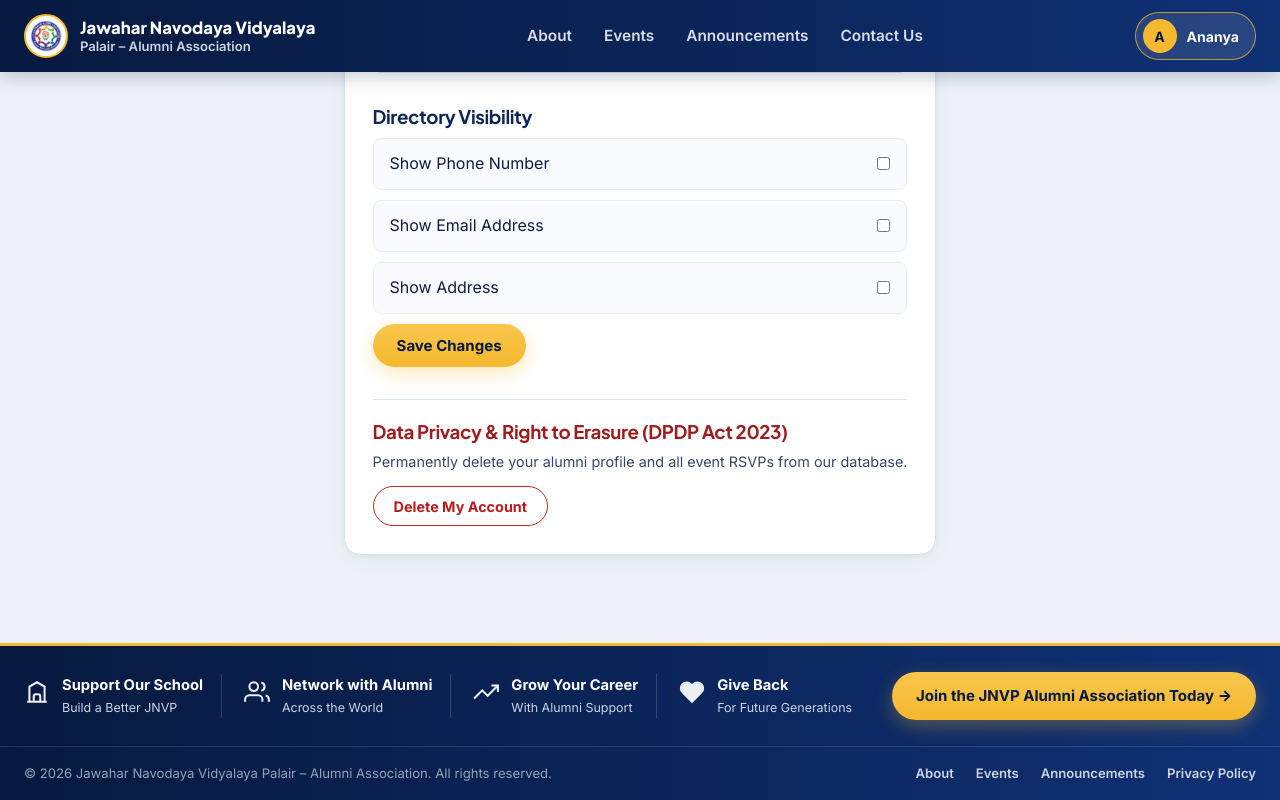
Scenario: JNVP Portal Flows (Auth, Onboarding, Directory, Approvals, Events, About, Privacy) › supports DPDP Delete My Account confirmation on /profile
Later steps or results of the test are not shown.
(page scrolled)
Click the button "Delete My Account".
click(460, 506)  # box [373,486,548,526]
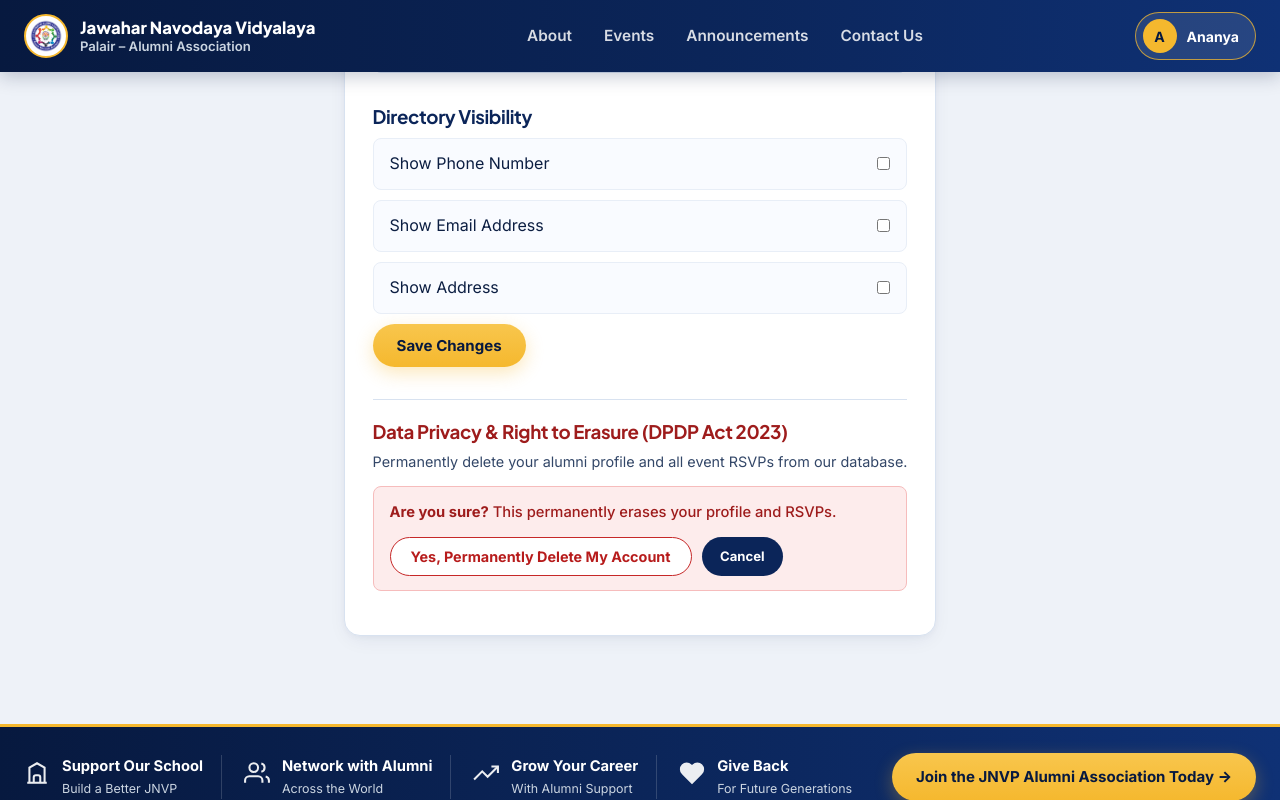
Expected: the text "Are you sure?" is shown, [390,503,489,521]
